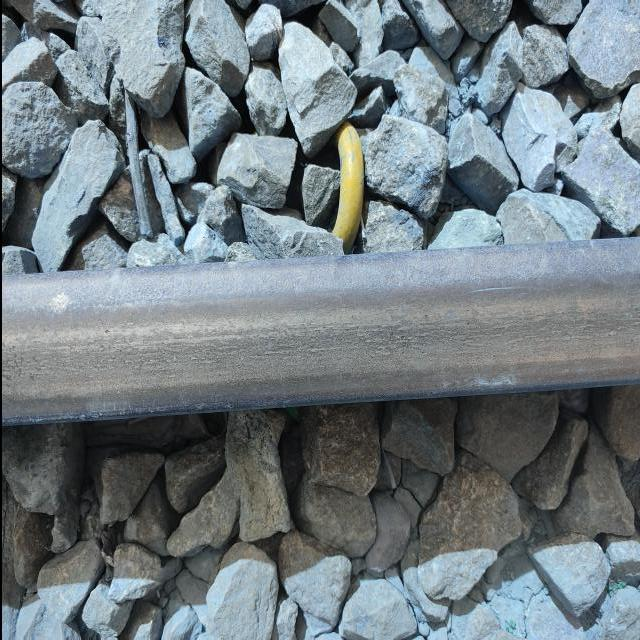broken_rail_medium: (46, 293, 67, 315), (100, 325, 108, 335)
